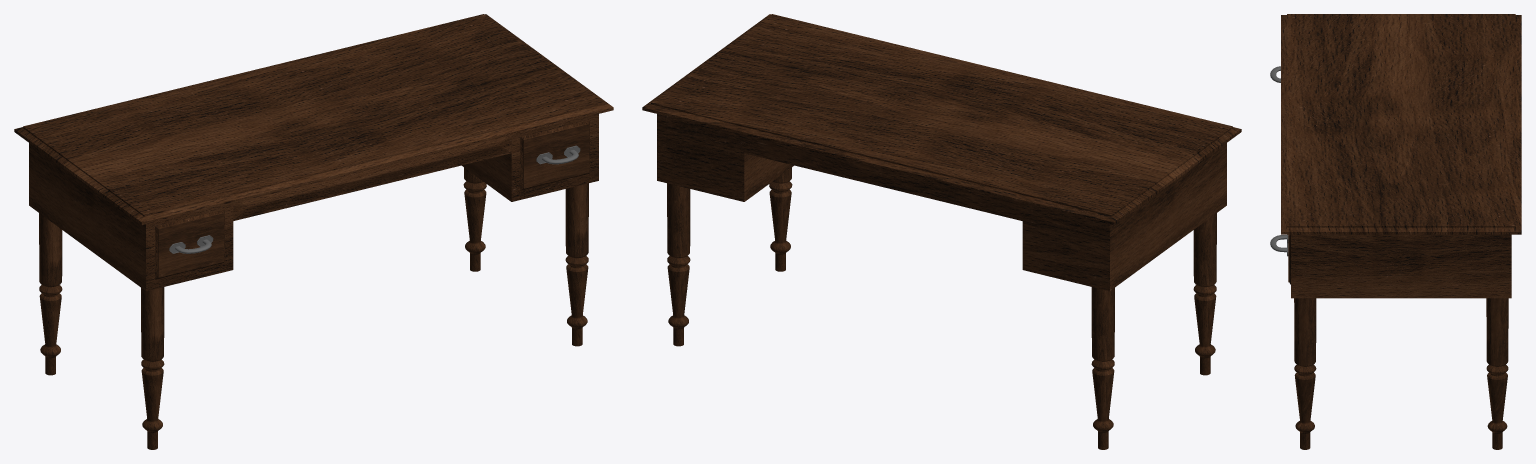
Rendered from mesaescritorio.fbx.
3 renders of one model, left to right at view 1: azimuth 30°, elevation 25°; view 2: azimuth 150°, elevation 25°; view 3: azimuth 270°, elevation 25°, orthographic. The views are drawn at different scales.
Visible parts, largest first — view 1: pCube1, pCube3, pCube2, pCylinder4, pCylinder3, pCylinder1, pCylinder2; view 2: pCube1, pCylinder1, pCylinder2, pCylinder4, pCylinder3; view 3: pCube1, pCylinder2, pCylinder3.
Part boxes in pixels (x1,y1,x2,y2): pCube1: (14,14,613,291); pCube3: (155,209,224,279); pCube2: (520,120,589,190); pCylinder4: (141,287,164,449); pCylinder3: (565,183,588,346); pCylinder1: (39,213,62,375); pCylinder2: (463,167,486,271); pCube1: (642,14,1241,291); pCylinder1: (1091,287,1114,449); pCylinder2: (667,183,690,346); pCylinder4: (1193,213,1216,375); pCylinder3: (769,167,792,271); pCube1: (1281,14,1521,298); pCylinder2: (1486,298,1508,449); pCylinder3: (1294,298,1316,449).
Bounding box in the file's own units: 4.49 × 2.22 × 2.2.
Materials: 2 (1 with a texture image).
